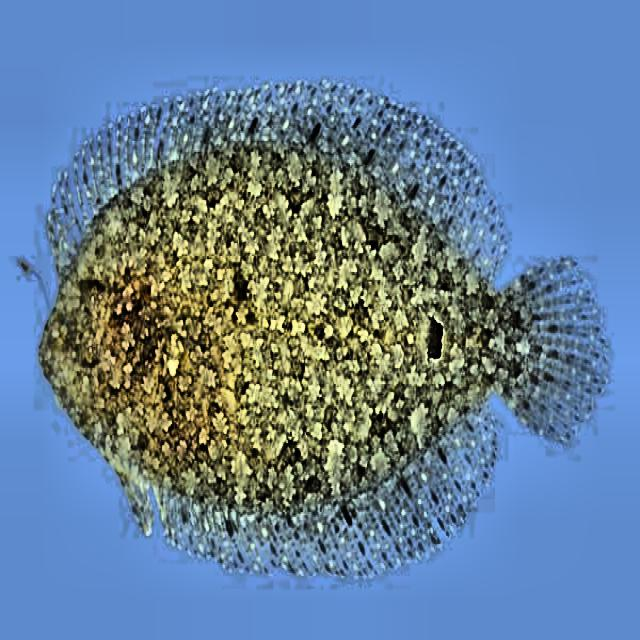fish: (19, 79, 611, 582)
